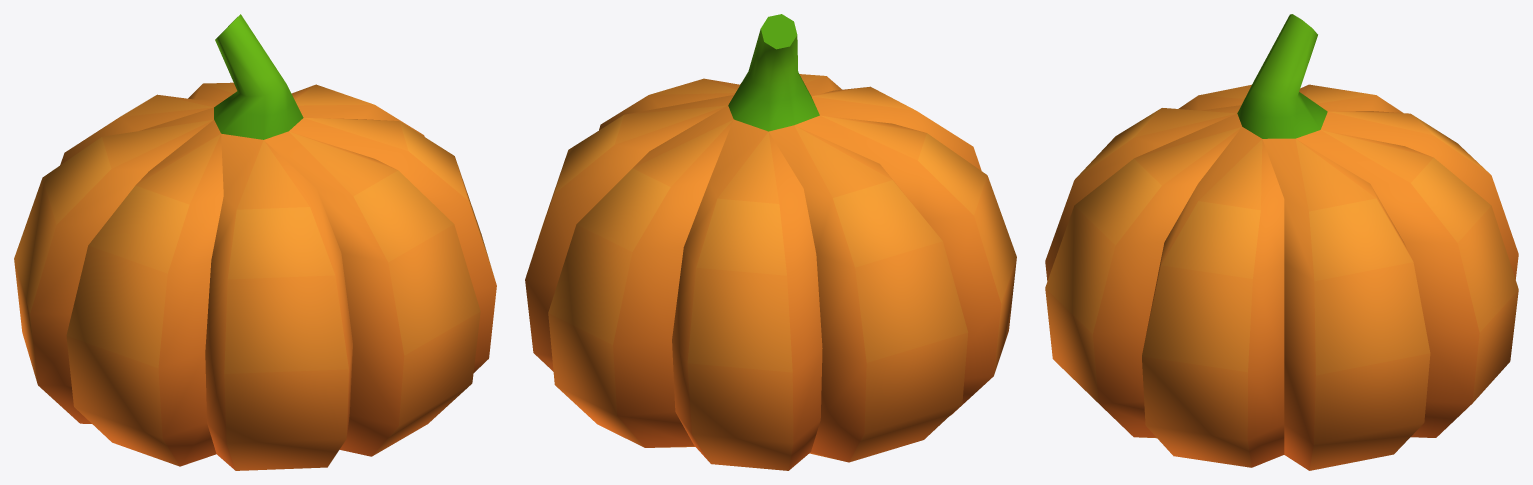
File: Pumpkin.fbx
The picture shows the model from 3 angles, left to right: view 1: azimuth 30°, elevation 25°; view 2: azimuth 150°, elevation 25°; view 3: azimuth 270°, elevation 25°; orthographic projection. The views are drawn at different scales.
Parts seen in each view (by area): view 1: Pumpkin; view 2: Pumpkin; view 3: Pumpkin.
Part boxes in pixels (bbox=[...]): Pumpkin: bbox=[14, 14, 496, 470]; Pumpkin: bbox=[525, 14, 1016, 470]; Pumpkin: bbox=[1045, 14, 1518, 470].
Bounding box in the file's own units: 5.43 × 4.89 × 5.38.
